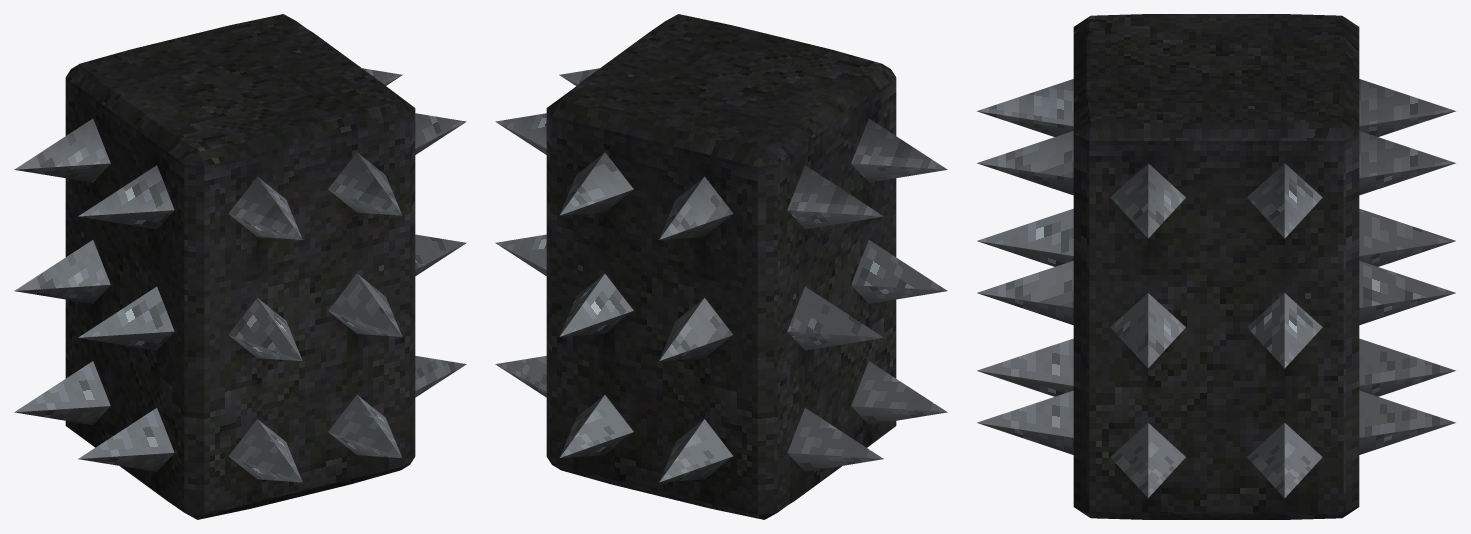
File: thorns.glb
The picture shows the model from 3 angles, left to right: view 1: azimuth 30°, elevation 25°; view 2: azimuth 150°, elevation 25°; view 3: azimuth 270°, elevation 25°; orthographic projection. The views are drawn at different scales.
Parts seen in each view (by area): view 1: Cube; view 2: Cube; view 3: Cube.
Part boxes in pixels (x1,y1,x2,y2): Cube: (14, 14, 466, 519); Cube: (495, 14, 947, 519); Cube: (977, 14, 1455, 519).
Size of the model in its own units: 1.1 by 1 by 1.1.
Materials: 1 (1 with a texture image).
